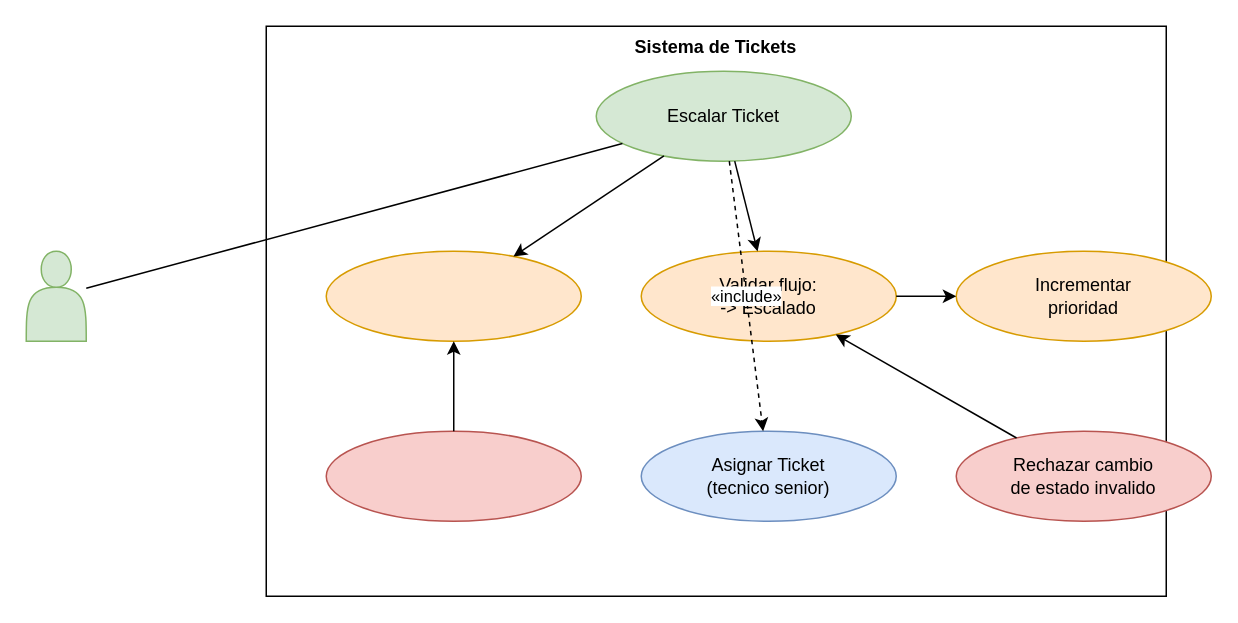
This 1238x623 diagram has some shape labels left out. Here are the shapes that lost their labels. From the top down, the centre of each, then its label:
At point (55, 295): "Tecnico".
At point (453, 295): "Buscar ticket por numero".
At point (453, 475): "Notificar ticket no encontrado".
